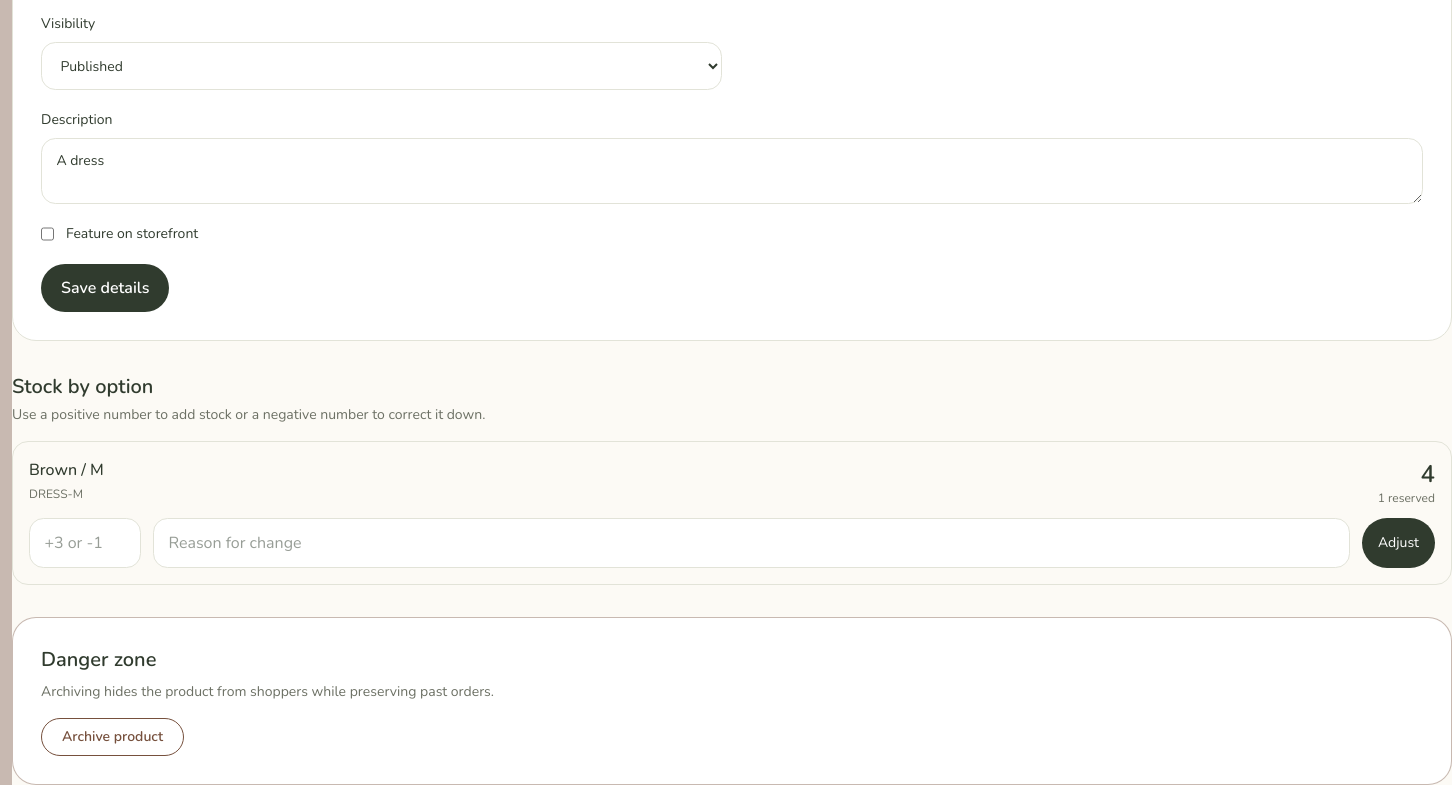
Test: AdminProductEditor › reports archive failures with status and server code
(page scrolled)
Click the button "Archive product" at (112, 737), box [41,718,184,756]
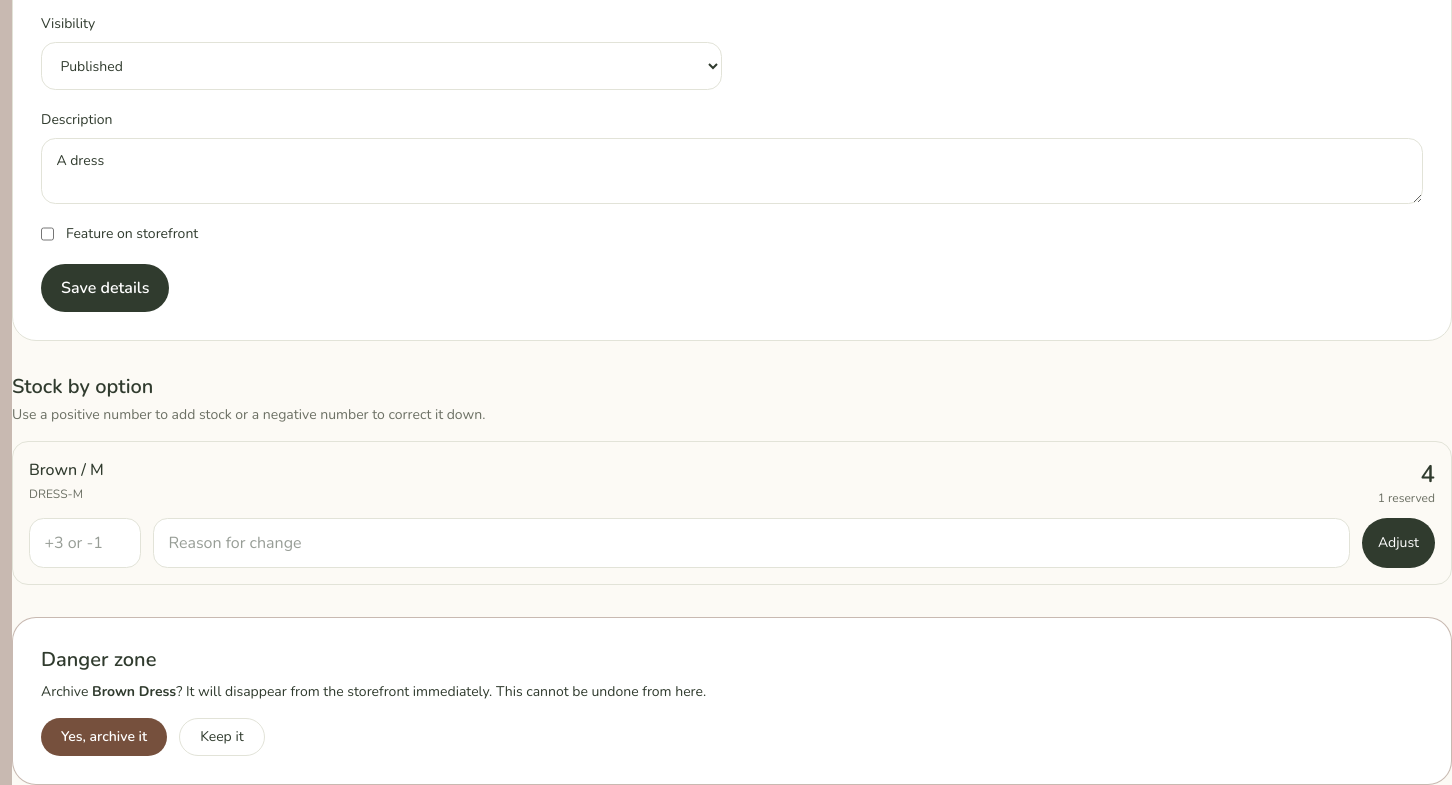
Click the button "Yes, archive it" at (104, 737), box [41,718,167,756]
(page scrolled)
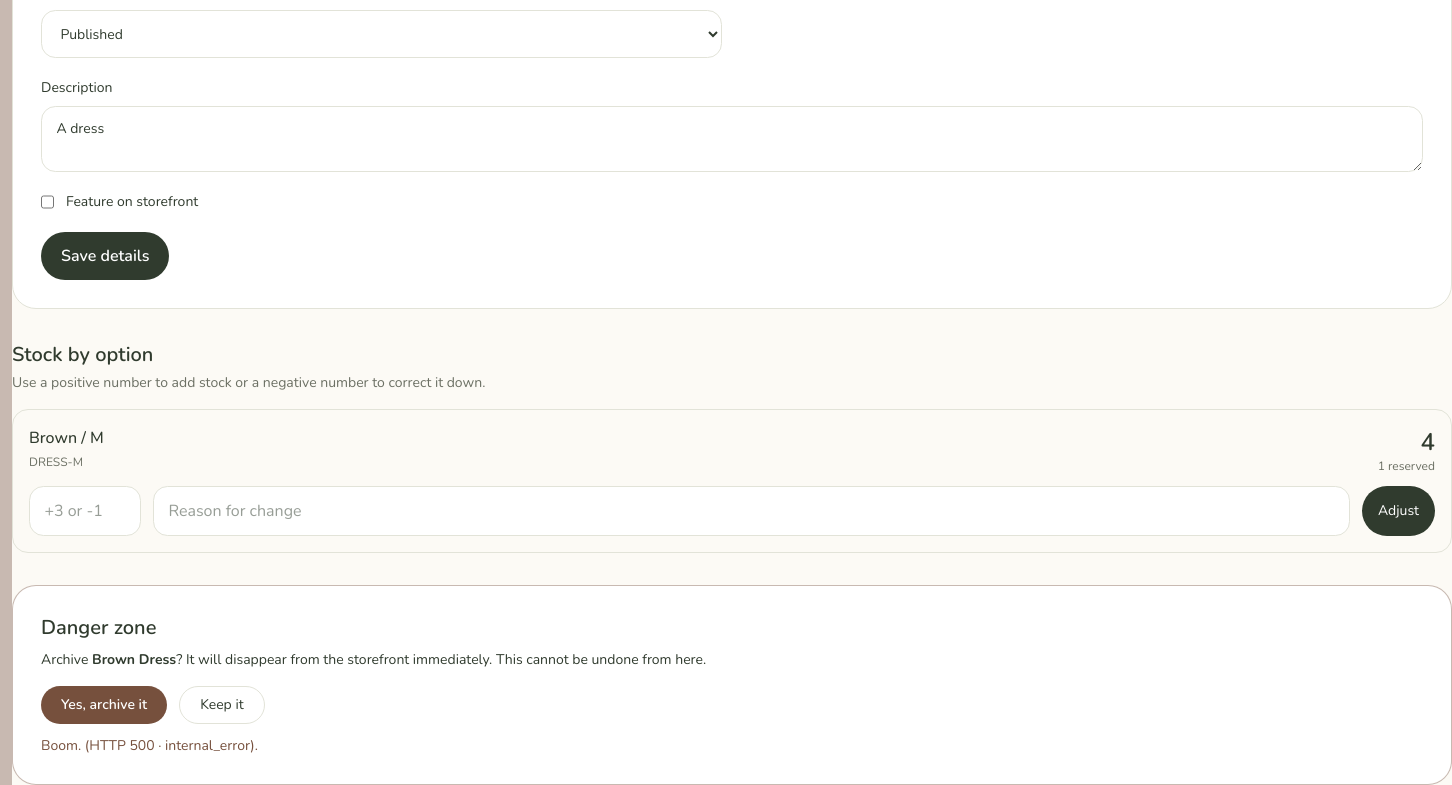
expect the text "Boom. (HTTP 500 · internal_error)." is shown: met, box [41,736,258,755]
